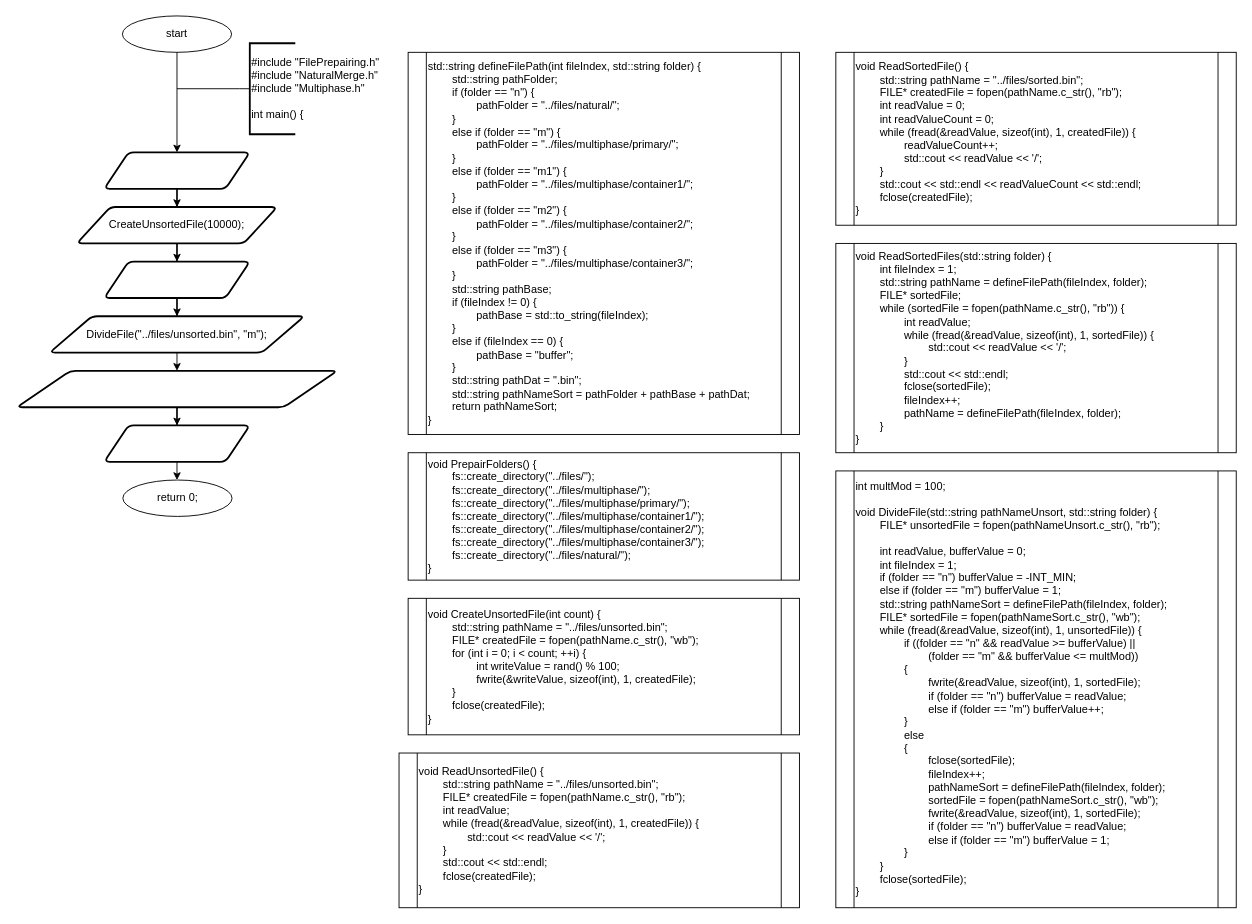
This 1252x924 diagram has some shape labels left out. The centre of each missing label's shape, as x and y in pixels:
"PrepairFolders();" goes at [176,170].
"ReadSortedFile();" goes at [176,443].
"ReadUnsortedFile();" goes at [176,279].
"SortMultiphase(); /*или*/ SortNaturalMerge();" goes at [176,388].
